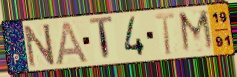4: (122, 15, 147, 59)
A: (53, 20, 90, 67)
M: (176, 8, 217, 55)
N: (22, 22, 57, 69)
T: (88, 15, 115, 63), (153, 11, 176, 57)
